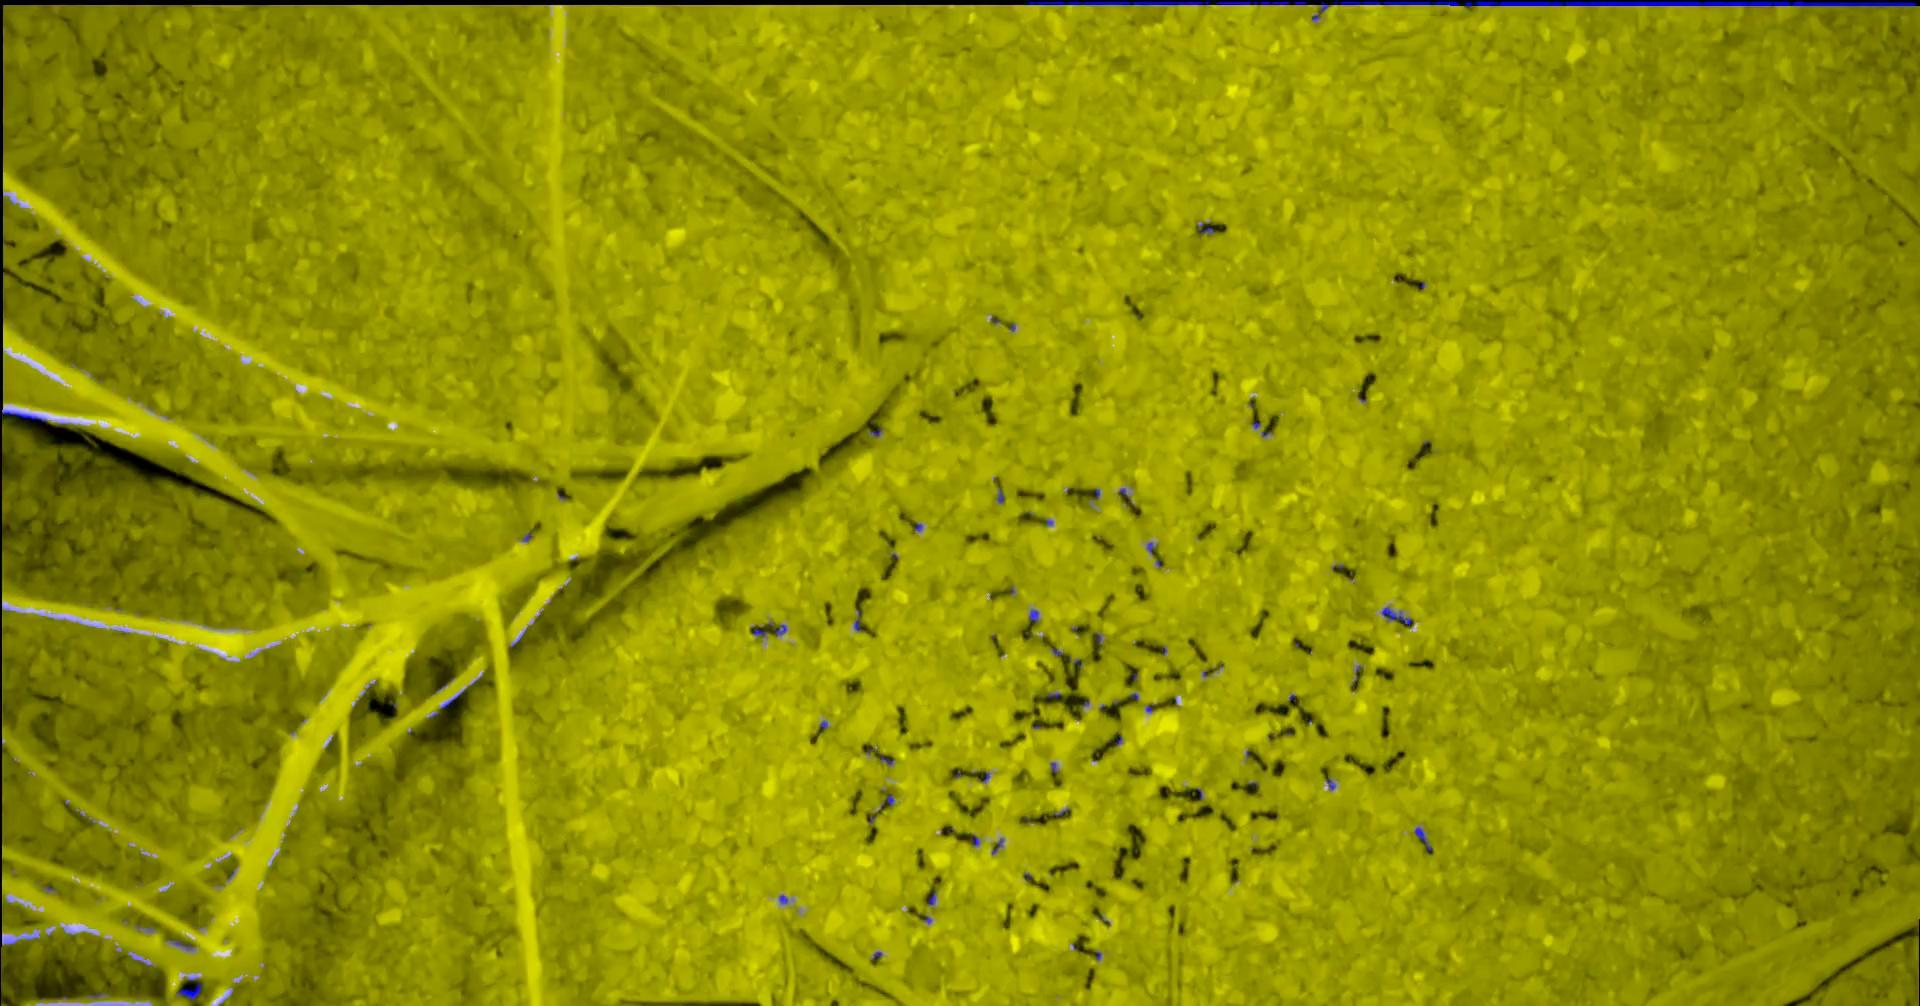ant: (1029, 0, 1211, 4), (1, 406, 48, 420), (1383, 606, 1413, 624), (1416, 826, 1434, 851), (178, 982, 203, 998), (1217, 0, 1309, 4), (1197, 222, 1217, 232)
